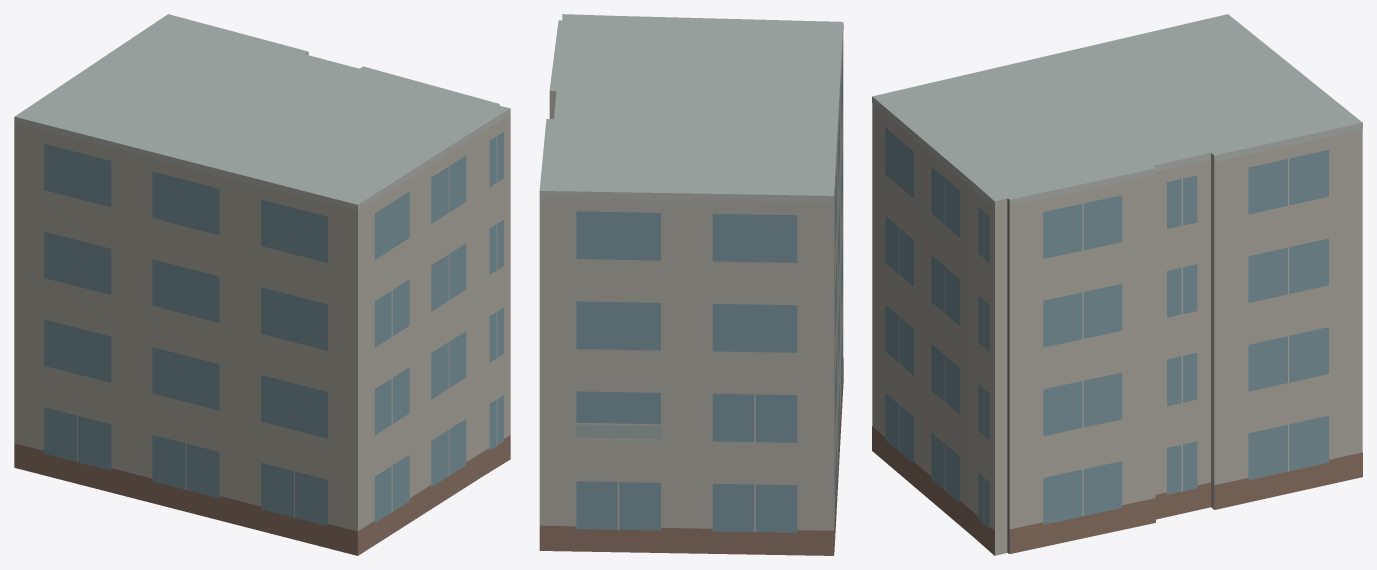
File: survey-upis-32736436.glb
The picture shows the model from 3 angles, left to right: view 1: azimuth 30°, elevation 25°; view 2: azimuth 150°, elevation 25°; view 3: azimuth 270°, elevation 25°; orthographic projection. The views are drawn at different scales.
Visible parts, largest first — view 1: survey-upis-32736436.tmp; view 2: survey-upis-32736436.tmp; view 3: survey-upis-32736436.tmp.
Boxes of the visible parts, x1,y1,x2,y2 form: survey-upis-32736436.tmp: (14, 14, 510, 555); survey-upis-32736436.tmp: (539, 14, 843, 555); survey-upis-32736436.tmp: (872, 14, 1362, 555).
Bounding box in the file's own units: 14.7 × 12.95 × 16.26.
